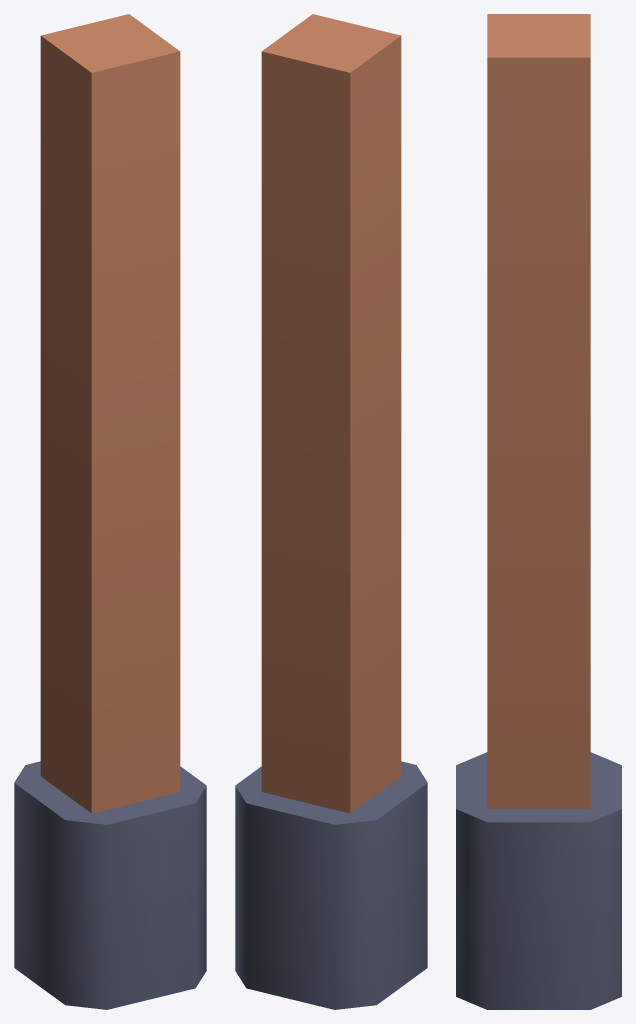
Rendered from timber_pillar.glb.
3 views of the same model, side by side, from view 1: azimuth 30°, elevation 25°; view 2: azimuth 150°, elevation 25°; view 3: azimuth 270°, elevation 25° (orthographic).
Parts seen in each view (by area): view 1: pillar-wood; view 2: pillar-wood; view 3: pillar-wood.
Part boxes in pixels (<box>): pillar-wood: <box>14,14,206,1009</box>; pillar-wood: <box>235,14,427,1009</box>; pillar-wood: <box>456,14,621,1009</box>.
Size of the model in its own units: 0.16 by 1 by 0.16.
1 material, 1 textured.
